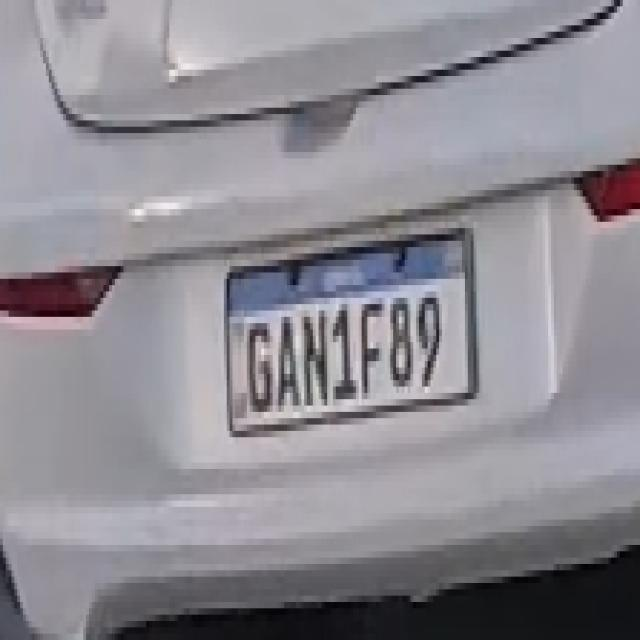Placa_mercosul_carro: (224, 226, 476, 436)
